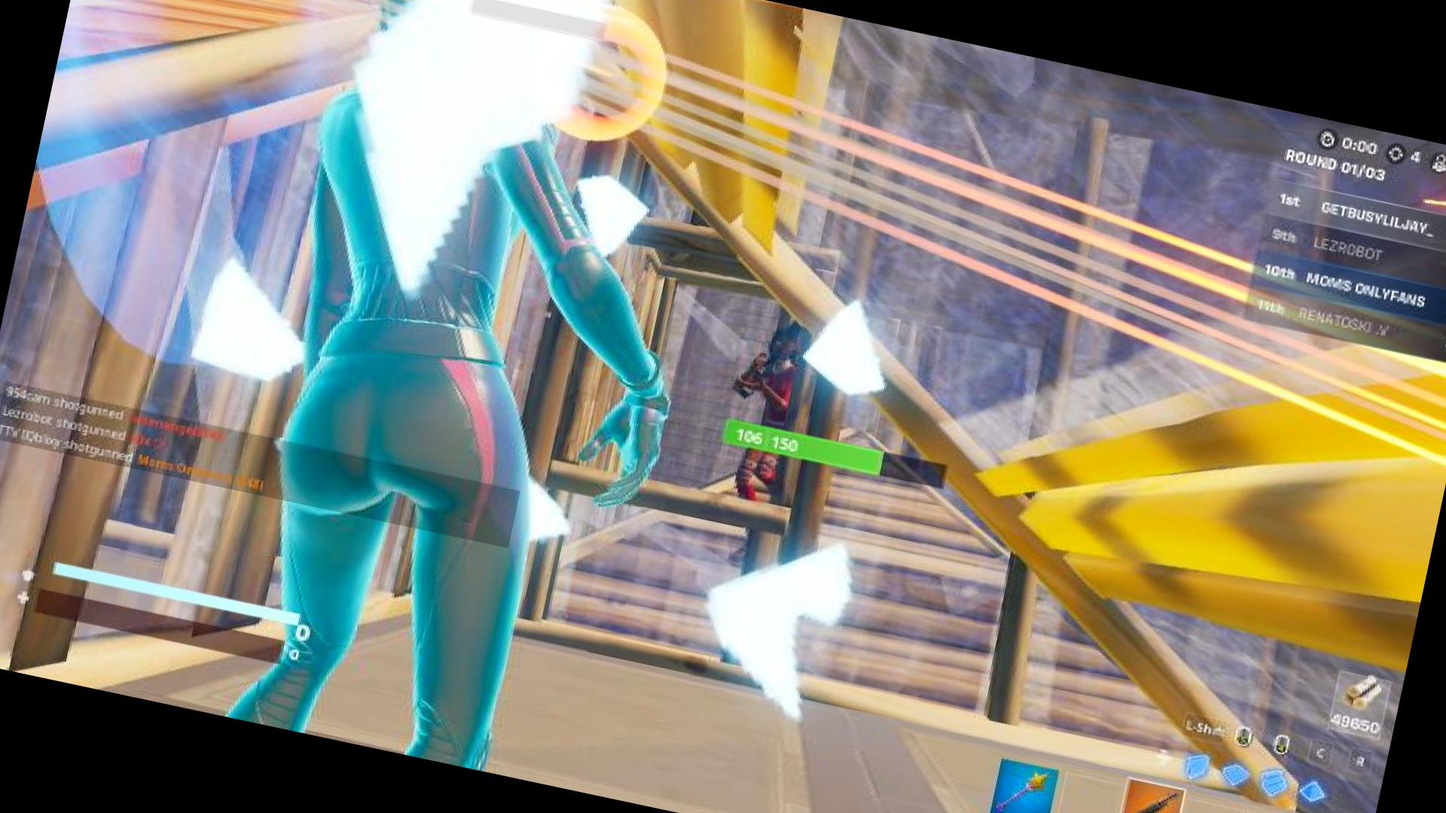player: (706, 304, 845, 537)
